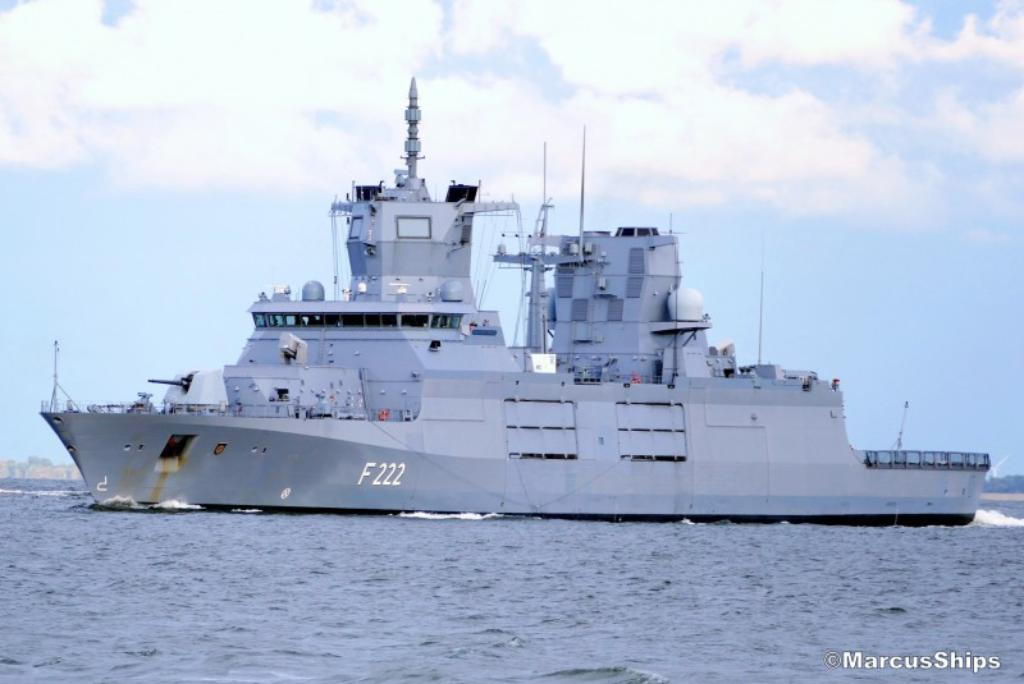Warship: (42, 74, 994, 528)
